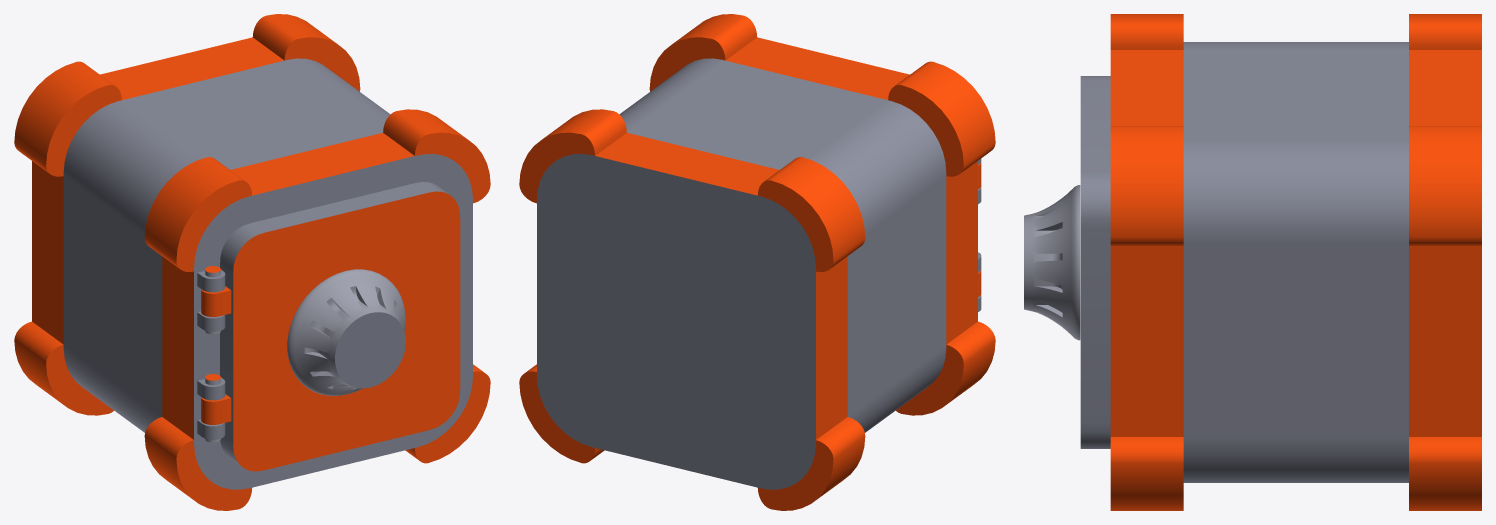
Rendered from Safebox A.fbx.
3 renders of one model, left to right at view 1: azimuth 30°, elevation 25°; view 2: azimuth 150°, elevation 25°; view 3: azimuth 270°, elevation 25°, orthographic. The views are drawn at different scales.
Visible parts, largest first — view 1: Safebox B.004, Safebox B.005, Safebox B.006; view 2: Safebox B.004; view 3: Safebox B.004, Safebox B.005, Safebox B.006.
Boxes of the visible parts, x1,y1,x2,y2 form: Safebox B.004: [14, 14, 490, 510]; Safebox B.005: [201, 182, 460, 471]; Safebox B.006: [287, 269, 405, 395]; Safebox B.004: [519, 14, 995, 510]; Safebox B.004: [1110, 14, 1481, 510]; Safebox B.005: [1080, 76, 1110, 448]; Safebox B.006: [1024, 185, 1080, 340].
Bounding box in the file's own units: 3.68 × 3.68 × 4.05.
